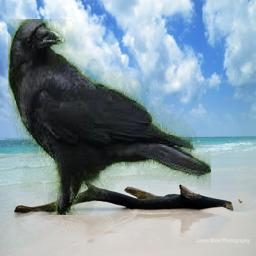Crow: (9, 19, 212, 215)
